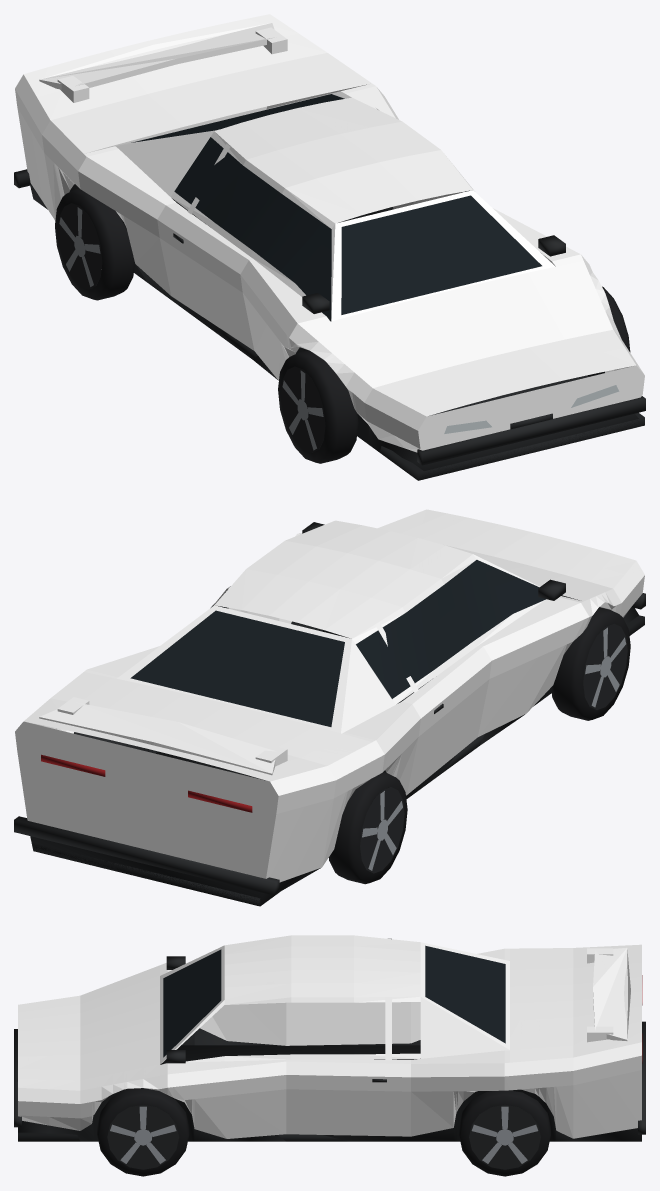
Rendered from pemberly_crisol.glb.
3 views of the same model, one above another, from view 1: azimuth 30°, elevation 25°; view 2: azimuth 150°, elevation 25°; view 3: azimuth 270°, elevation 25° (orthographic). The views are drawn at different scales.
Parts seen in each view (by area): view 1: Body_Paint, Body_Details, Mount_FrontLeft_Wheel_Details, Mount_RearLeft_Wheel_Details; view 2: Body_Paint, Body_Details, Mount_RearLeft_Wheel_Details, Mount_FrontLeft_Wheel_Details; view 3: Body_Paint, Body_Details, Mount_FrontRight_Wheel_Details, Mount_RearRight_Wheel_Details.
Part boxes in pixels (bbox=[...]): Body_Paint: bbox=[15, 14, 644, 452]; Body_Details: bbox=[14, 94, 645, 480]; Mount_FrontLeft_Wheel_Details: bbox=[278, 350, 358, 463]; Mount_RearLeft_Wheel_Details: bbox=[55, 188, 134, 300]; Body_Paint: bbox=[15, 509, 644, 882]; Body_Details: bbox=[14, 522, 645, 906]; Mount_RearLeft_Wheel_Details: bbox=[328, 772, 407, 884]; Mount_FrontLeft_Wheel_Details: bbox=[551, 607, 630, 720]; Body_Paint: bbox=[18, 935, 641, 1138]; Body_Details: bbox=[14, 945, 645, 1141]; Mount_FrontRight_Wheel_Details: bbox=[97, 1088, 189, 1176]; Mount_RearRight_Wheel_Details: bbox=[459, 1090, 550, 1176].
Bounding box in the file's own units: 1.96 × 1.17 × 4.32.
2 materials, 1 textured.
